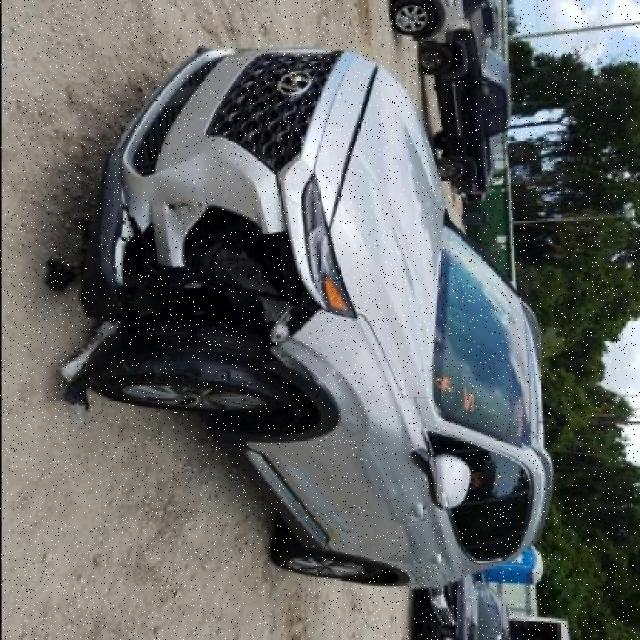damage: (84, 203, 324, 357)
